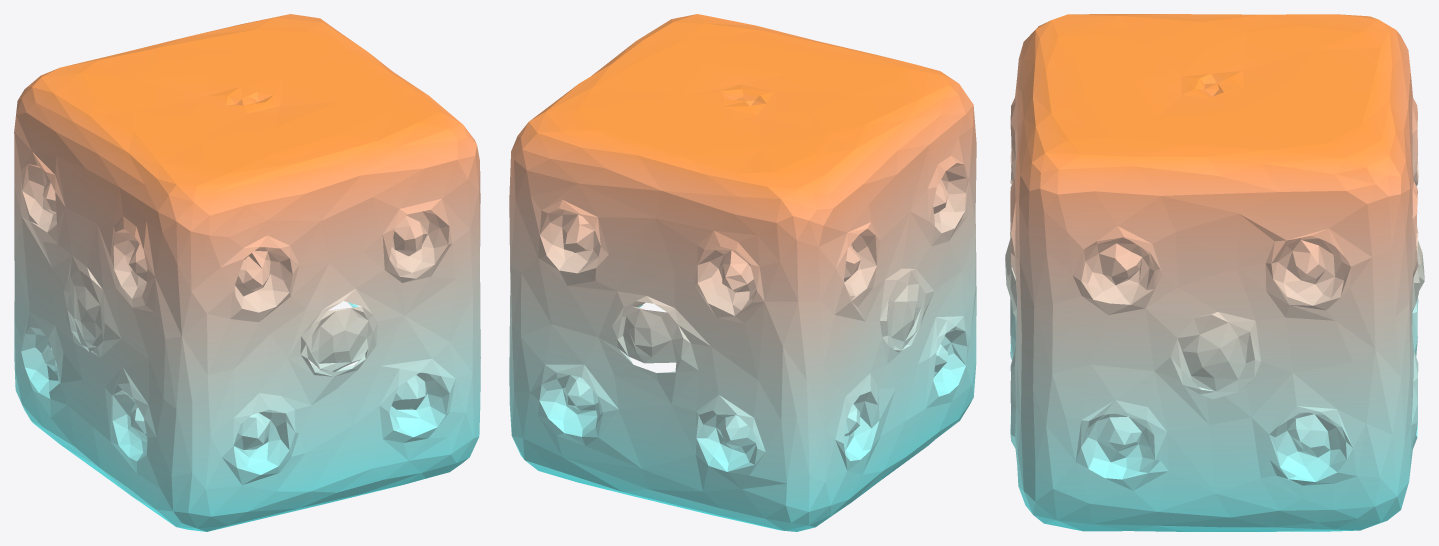
File: 128_cyb_laser_gradient_fish_scales_2821_2026_10_03_04de7e.glb
3 renders of one model, left to right at view 1: azimuth 30°, elevation 25°; view 2: azimuth 150°, elevation 25°; view 3: azimuth 270°, elevation 25°, orthographic. The views are drawn at different scales.
Visible parts, largest first — view 1: geometry_0; view 2: geometry_0; view 3: geometry_0.
Part boxes in pixels (x1,y1,x2,y2): geometry_0: (14, 14, 480, 531); geometry_0: (509, 14, 976, 531); geometry_0: (1005, 14, 1424, 531).
Bounding box in the file's own units: 0.9943 × 0.9882 × 0.9959.
